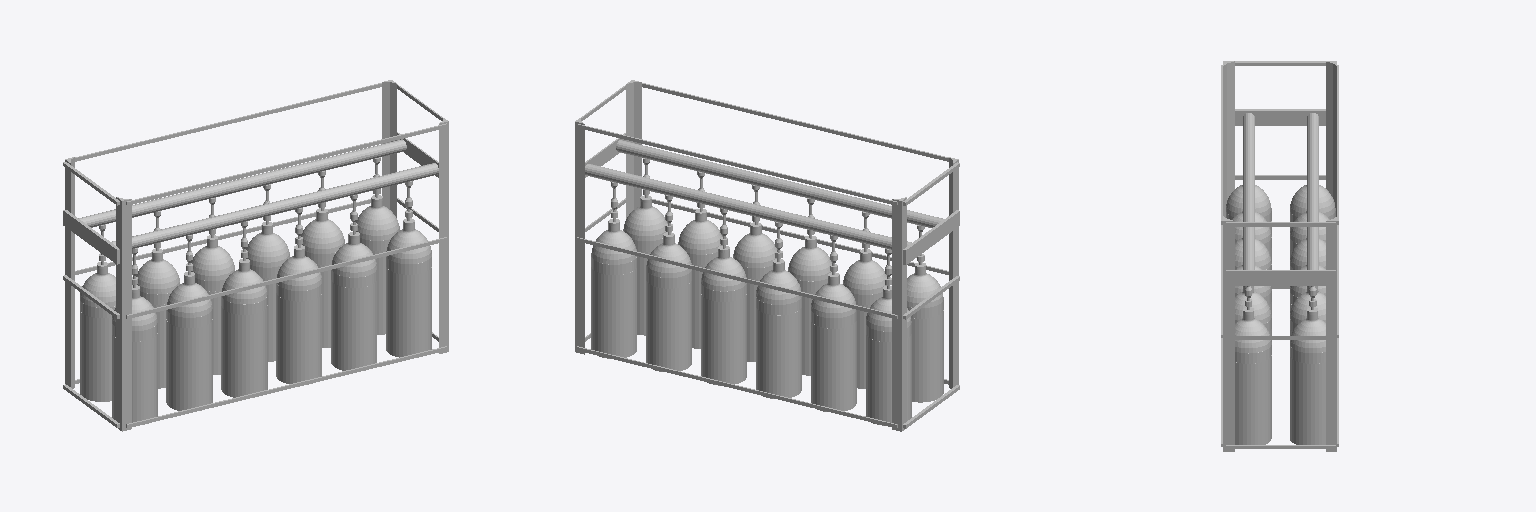
Rendered from miehuosystem.obj.
3 views of the same model, side by side, from view 1: azimuth 30°, elevation 25°; view 2: azimuth 150°, elevation 25°; view 3: azimuth 270°, elevation 25° (orthographic).
Parts seen in each view (by area): view 1: Box10, ____08, ____10, ____16, ____14, ____12, ____06, ____07, ____17, ____15, ____11, ____13 (+1 smaller); view 2: Box10, ____11, ____09, ____15, ____17, ____13, ____07, ____06, ____10, ____14, ____08, ____16 (+1 smaller); view 3: Box10, ____16, ____17, ____07, ____06, ____14, ____15, ____10, ____11, ____08, ____09.
Boxes of the visible parts, x1,y1,x2,y2 form: Box10: [63, 80, 448, 431]; ____08: [166, 272, 212, 410]; ____10: [221, 259, 267, 397]; ____16: [386, 218, 431, 357]; ____14: [331, 232, 376, 370]; ____12: [276, 245, 321, 384]; ____06: [80, 262, 115, 401]; ____07: [112, 285, 157, 424]; ____17: [356, 195, 399, 334]; ____15: [301, 208, 344, 347]; ____11: [191, 235, 234, 374]; ____13: [246, 222, 289, 361]; Box10: [575, 80, 959, 431]; ____11: [756, 259, 801, 398]; ____09: [811, 272, 856, 411]; ____15: [646, 232, 691, 371]; ____17: [591, 219, 636, 358]; ____13: [701, 246, 746, 385]; ____07: [907, 262, 943, 402]; ____06: [866, 286, 911, 425]; ____10: [788, 236, 831, 375]; ____14: [678, 209, 722, 348]; ____08: [843, 249, 886, 388]; ____16: [623, 195, 667, 335]; Box10: [1221, 61, 1338, 451]; ____16: [1235, 307, 1271, 444]; ____17: [1290, 307, 1325, 444]; ____07: [1226, 185, 1271, 234]; ____06: [1290, 185, 1335, 230]; ____14: [1235, 286, 1271, 341]; ____15: [1290, 286, 1325, 335]; ____10: [1235, 238, 1271, 288]; ____11: [1290, 238, 1325, 269]; ____08: [1232, 211, 1271, 261]; ____09: [1290, 211, 1329, 256].
Size of the model in its own units: 198 by 132 by 61.29.